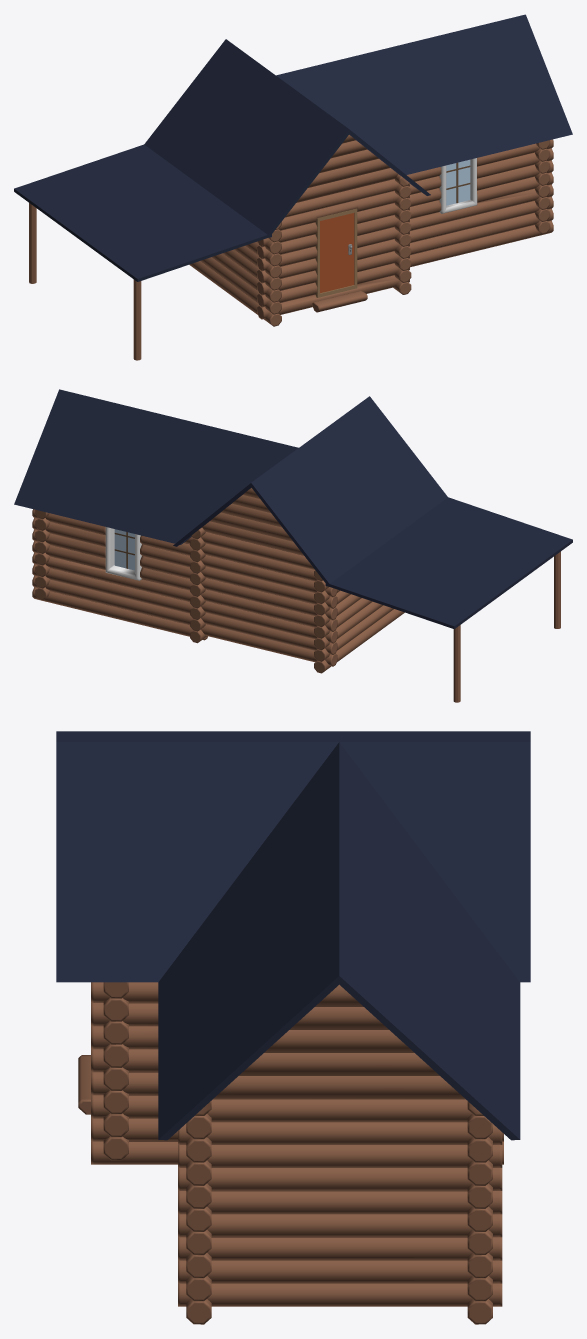
Rendered from Mesh_Log_Cabin_002.fbx.
The picture shows the model from 3 angles, top to bottom: view 1: azimuth 30°, elevation 25°; view 2: azimuth 150°, elevation 25°; view 3: azimuth 270°, elevation 25°; orthographic projection. The views are drawn at different scales.
Visible parts, largest first — view 1: Mesh_Roof, Mesh_Structure_Cabin, Mesh_Door, Plane, Mesh_Door_Frame, Window_Frame; view 2: Mesh_Roof, Mesh_Structure_Cabin, Window_Frame.002, Plane.001; view 3: Mesh_Roof, Mesh_Structure_Cabin.
Part boxes in pixels (bbox=[...]): Mesh_Roof: bbox=[14, 14, 572, 281]; Mesh_Structure_Cabin: bbox=[29, 135, 553, 360]; Mesh_Door: bbox=[320, 213, 354, 293]; Plane: bbox=[446, 159, 470, 205]; Mesh_Door_Frame: bbox=[315, 208, 357, 297]; Window_Frame: bbox=[439, 158, 477, 213]; Mesh_Roof: bbox=[14, 389, 572, 629]; Mesh_Structure_Cabin: bbox=[32, 488, 560, 702]; Window_Frame.002: bbox=[105, 527, 141, 580]; Plane.001: bbox=[114, 529, 134, 570]; Mesh_Roof: bbox=[56, 731, 530, 1140]; Mesh_Structure_Cabin: bbox=[78, 982, 503, 1324].
Bounding box in the file's own units: 4472 × 1736 × 2073.
